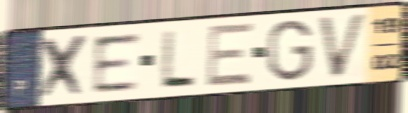E: (204, 20, 257, 90), (91, 30, 142, 97)
G: (265, 17, 315, 83)
L: (156, 28, 198, 89)
V: (315, 10, 370, 82)
X: (37, 32, 93, 102)
